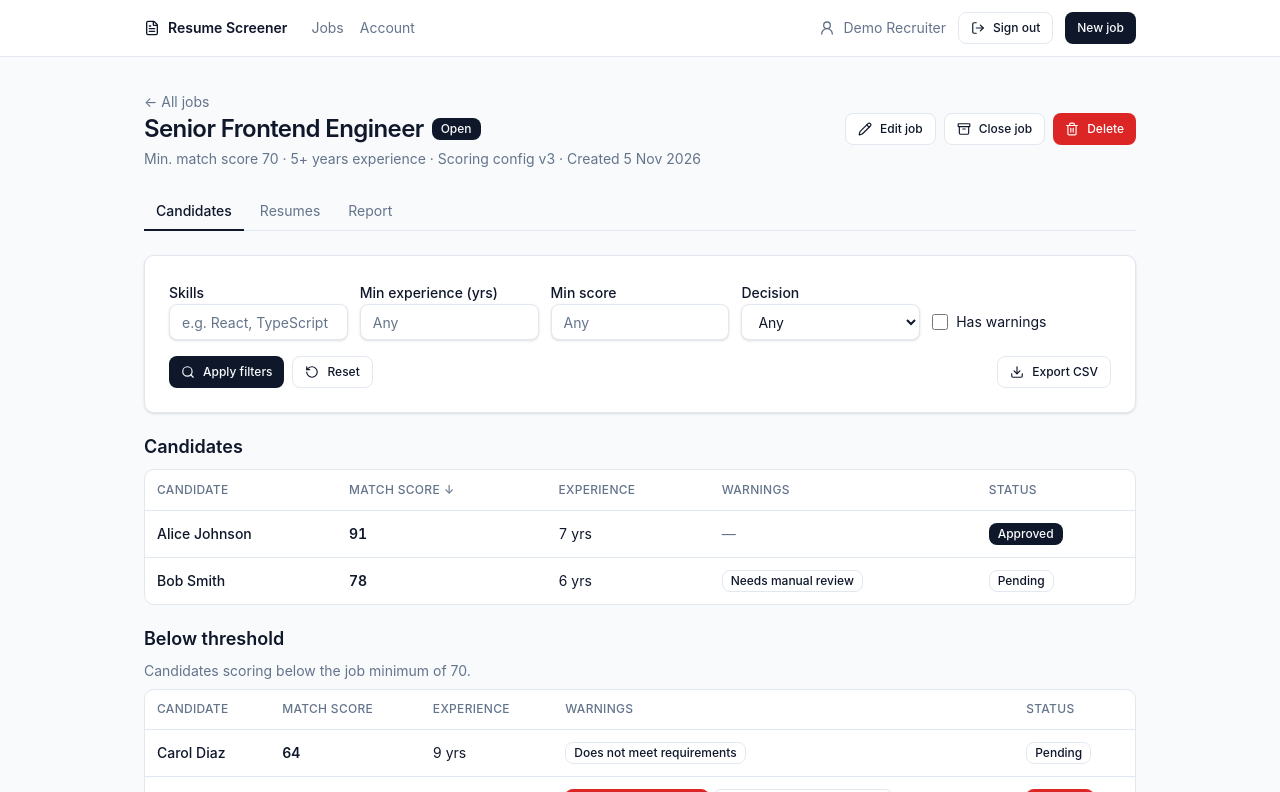
it: candidate workflows › filters candidates and resets filters when none match
Expected: the link "Alice Johnson" is shown, [157, 524, 252, 542]
Step 1. Select "Approved" in the dropdown labelled "Decision" → (831, 322), box [741, 304, 920, 340]
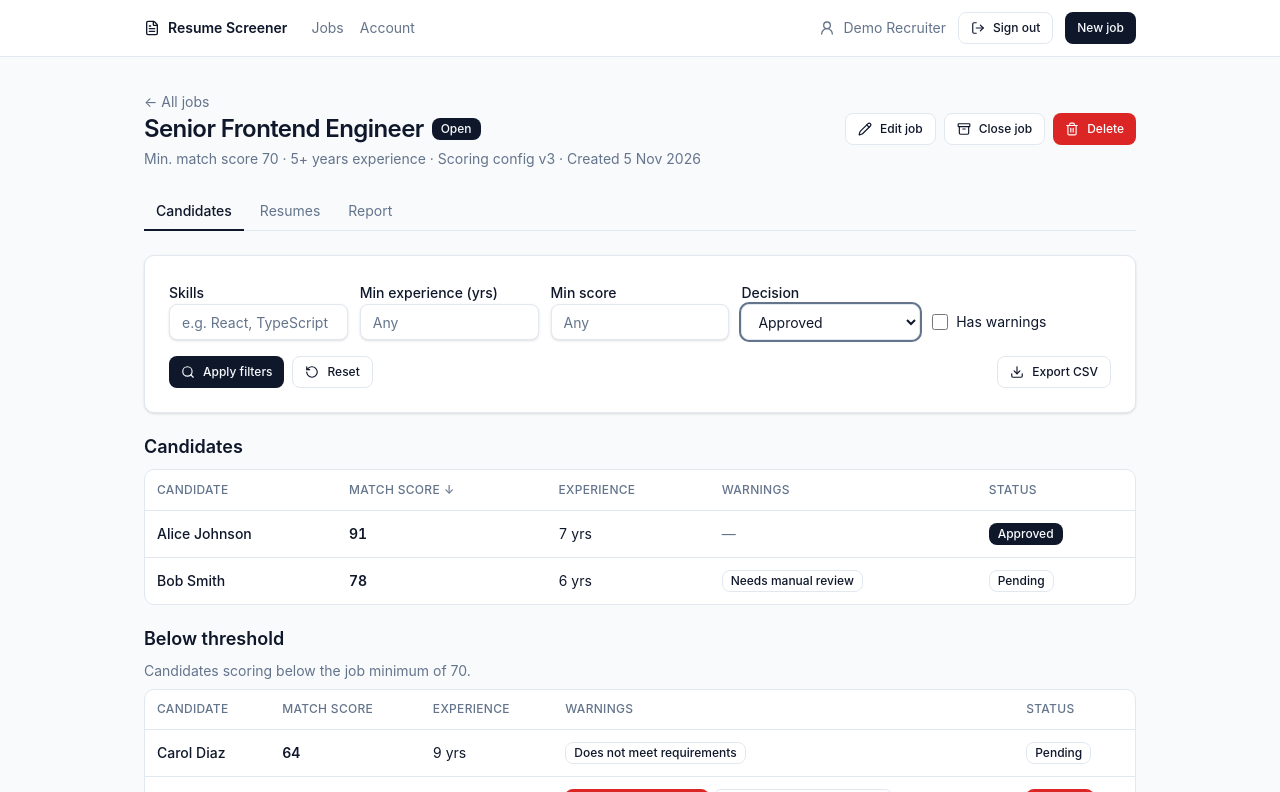
Step 2. Click the button "Apply filters" → click(227, 372), box [169, 356, 284, 388]
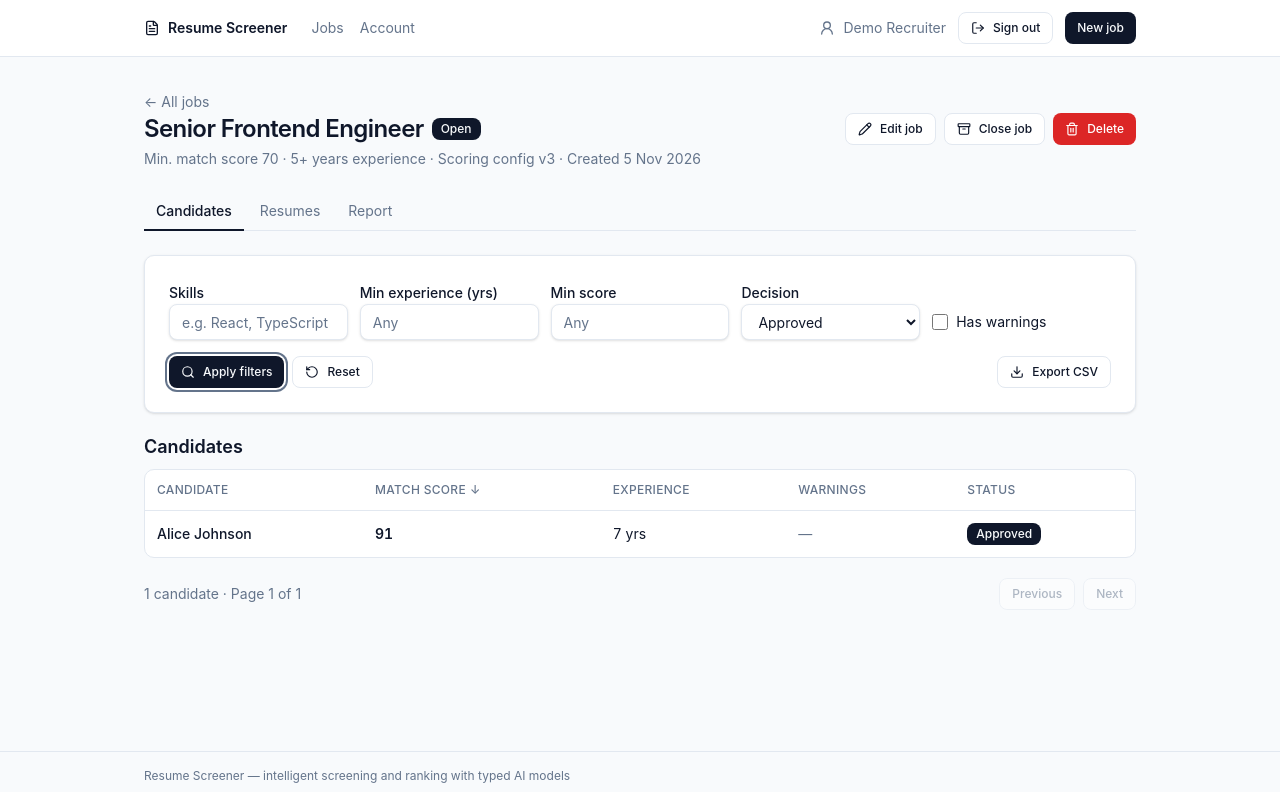
Expected: the link "Alice Johnson" is shown, [157, 524, 252, 542]
Expected: the link "Bob Smith" is gone
Step 3. Type "100" into the number field labelled "Min score" → (640, 322), box [551, 304, 729, 340]
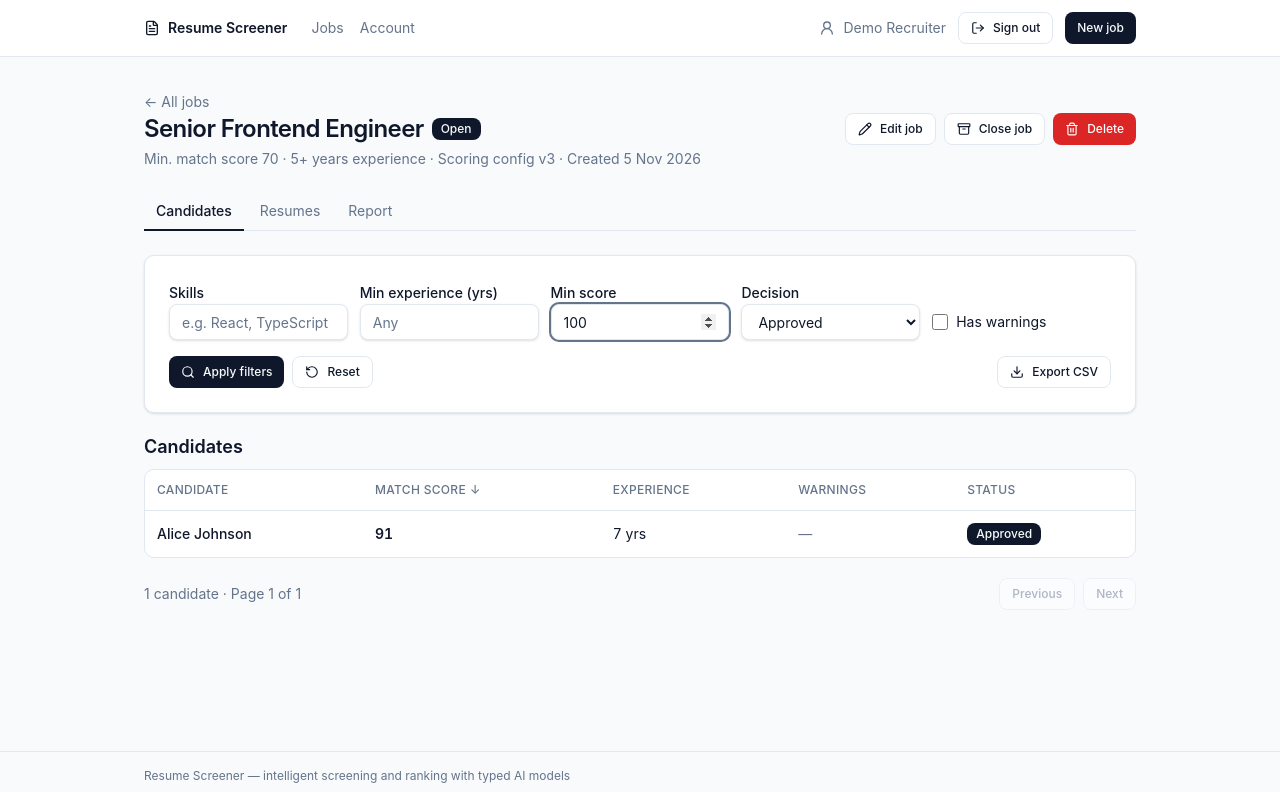
Step 4. Click the button "Apply filters" → click(227, 372), box [169, 356, 284, 388]
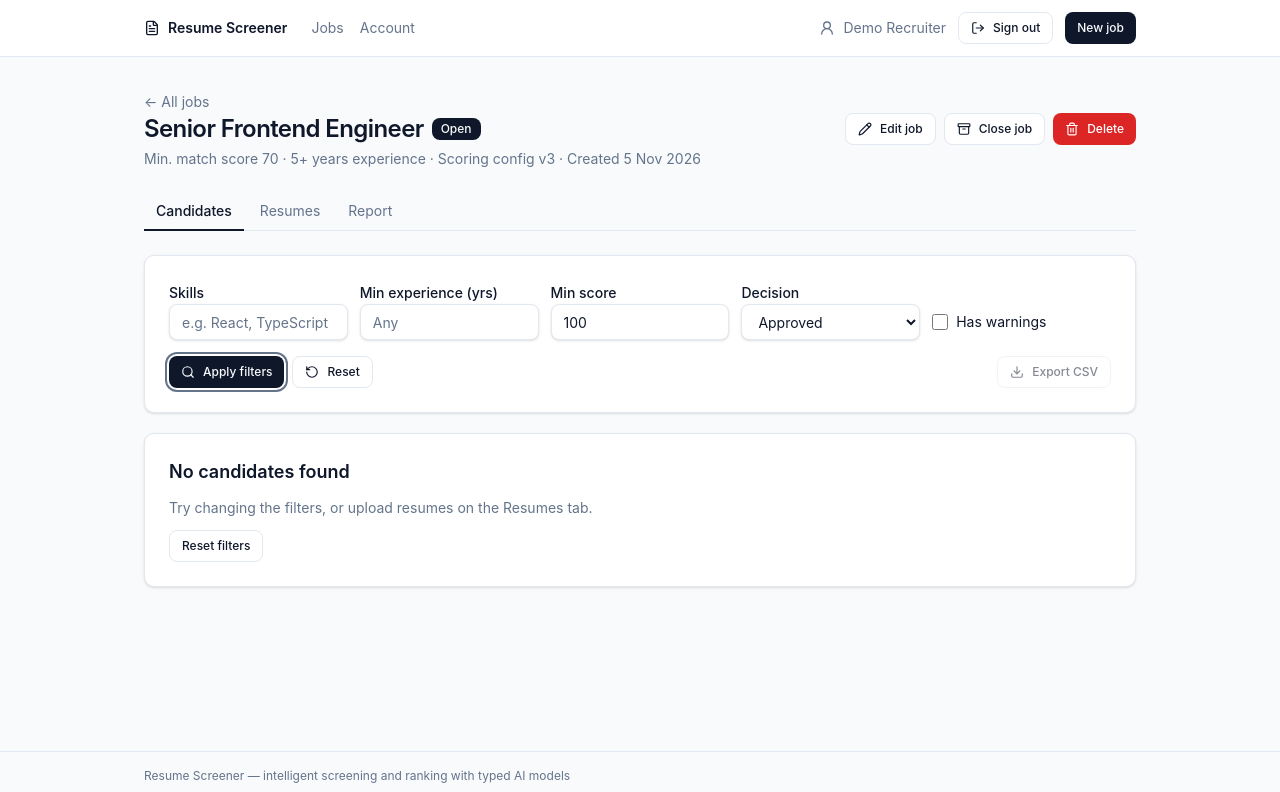
Expected: the heading "No candidates found" is shown, [169, 458, 350, 486]
Step 5. Click the button "Reset filters" → click(216, 546), box [169, 530, 263, 562]
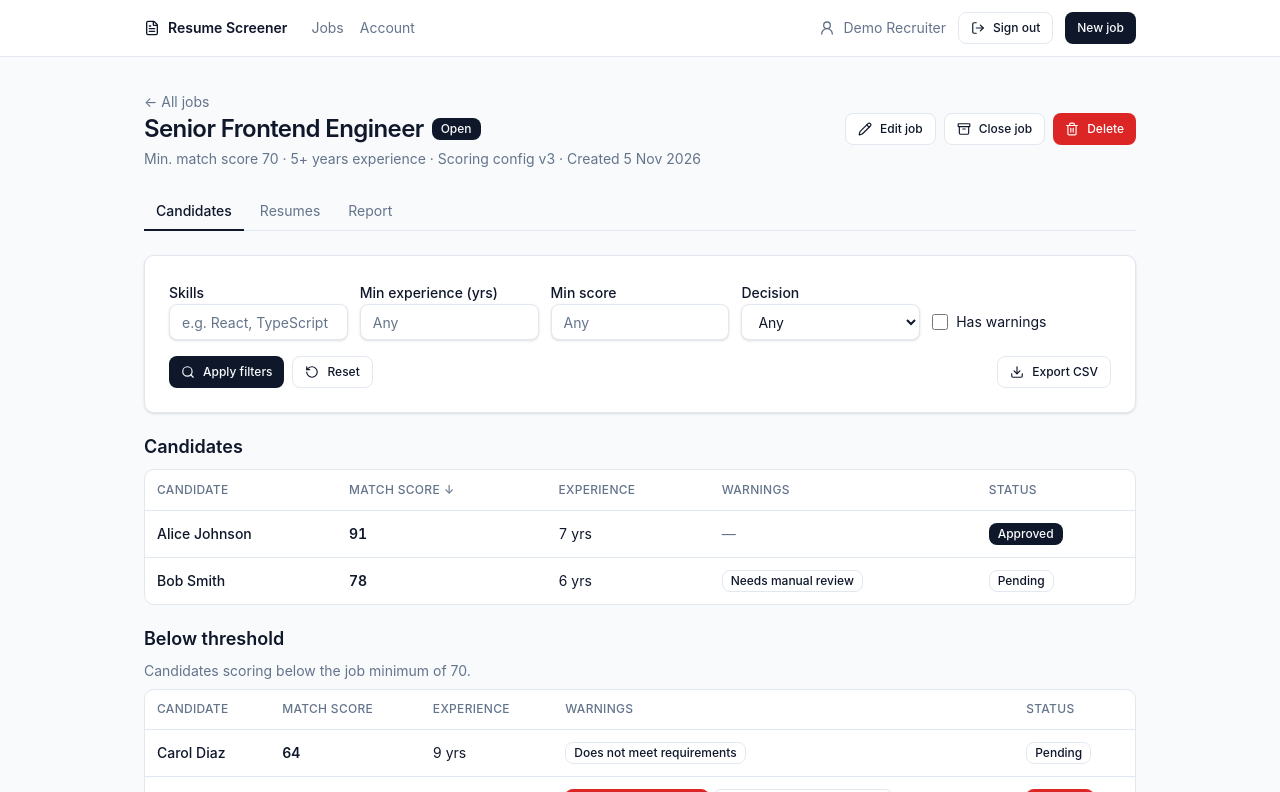
Expected: the link "Alice Johnson" is shown, [157, 524, 252, 542]
